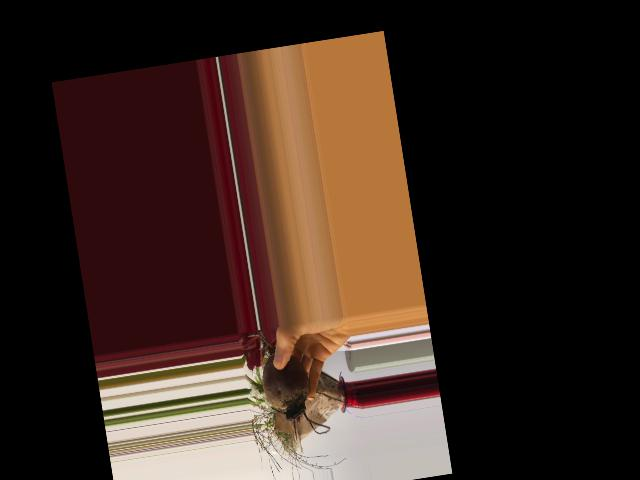beet: (248, 325, 330, 443)
